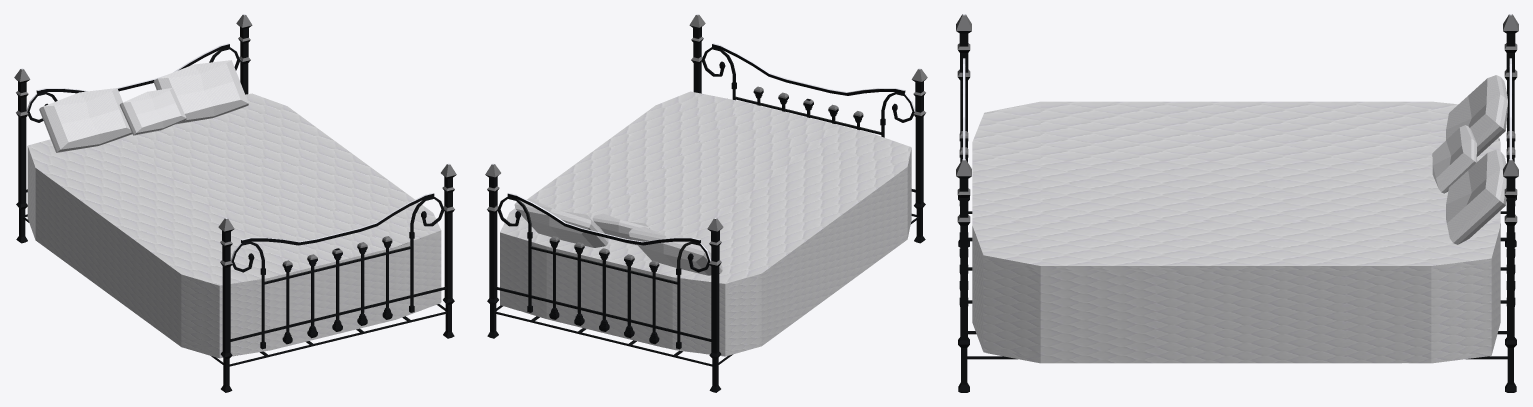
File: Cama.fbx
3 views of the same model, side by side, from view 1: azimuth 30°, elevation 25°; view 2: azimuth 150°, elevation 25°; view 3: azimuth 270°, elevation 25° (orthographic). The views are drawn at different scales.
Visible parts, largest first — view 1: Confortavel, Cube, almofada.001, almofada.002, almofada.003; view 2: Confortavel, Cube, almofada.002, almofada.001, almofada.003; view 3: Confortavel, Cube, almofada.002, almofada.001, almofada.003.
Part boxes in pixels (box(x1,y1,x2,y2)): Confortavel: box(27, 93, 441, 358); Cube: box(14, 14, 456, 392); almofada.001: box(39, 88, 132, 152); almofada.002: box(153, 60, 248, 124); almofada.003: box(119, 88, 186, 135); Confortavel: box(500, 91, 911, 356); Cube: box(485, 14, 927, 392); almofada.002: box(514, 199, 608, 247); almofada.001: box(629, 226, 722, 275); almofada.003: box(592, 213, 649, 244); Confortavel: box(972, 101, 1500, 363); Cube: box(956, 14, 1518, 392); almofada.002: box(1446, 149, 1506, 244); almofada.001: box(1446, 75, 1507, 156); almofada.003: box(1432, 125, 1477, 193).
Bounding box in the file's own units: 226 × 148 × 326.
Materials: 3 (3 with a texture image).
